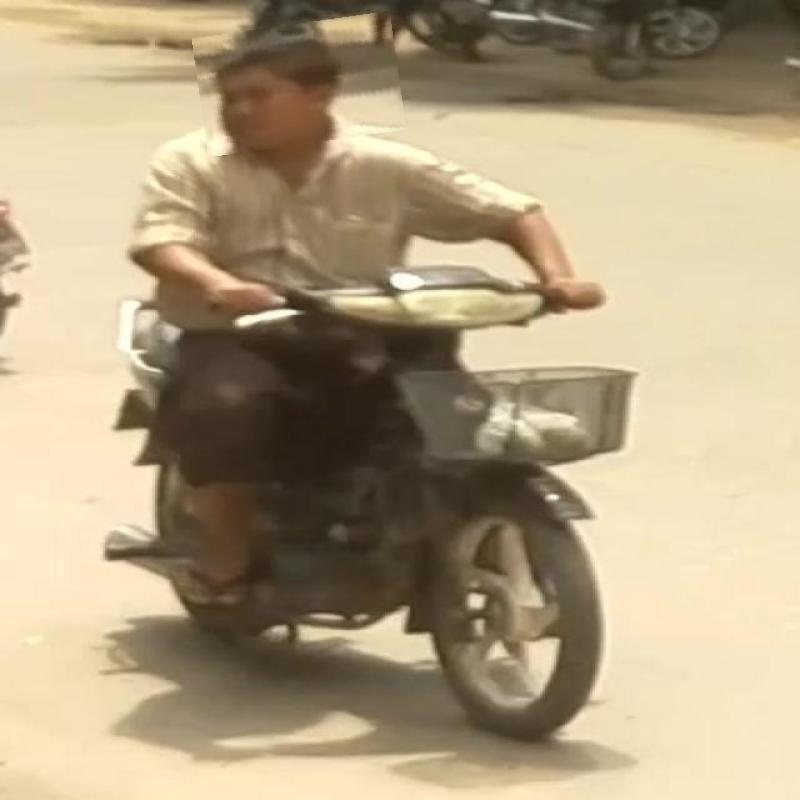nohelmet: (196, 17, 403, 150)
